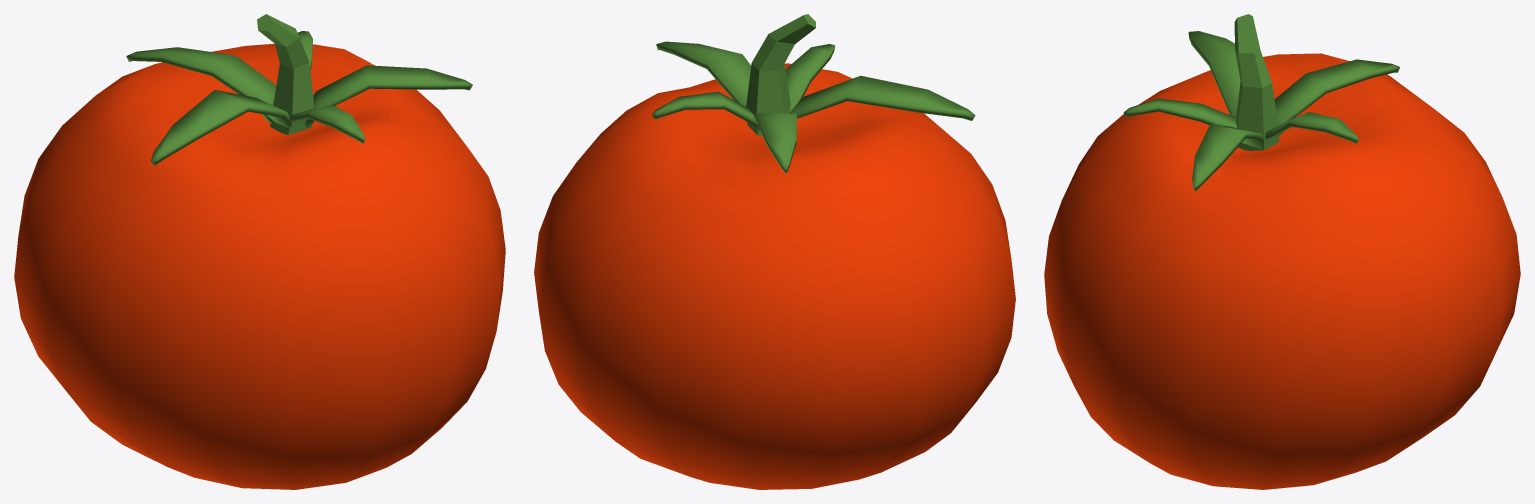
The model's file is Tomato1.fbx.
3 views of the same model, side by side, from view 1: azimuth 30°, elevation 25°; view 2: azimuth 150°, elevation 25°; view 3: azimuth 270°, elevation 25° (orthographic). The views are drawn at different scales.
Visible parts, largest first — view 1: Tomato, Leaves, Stem; view 2: Tomato, Leaves, Stem; view 3: Tomato, Leaves, Stem.
Boxes of the visible parts, x1,y1,x2,y2 form: Tomato: (14,43,505,489); Leaves: (126,31,472,165); Stem: (257,14,314,134); Tomato: (534,63,1015,489); Leaves: (651,41,975,173); Stem: (746,14,815,135); Tomato: (1044,53,1520,489); Leaves: (1123,31,1399,191); Stem: (1234,14,1279,150).
Bounding box in the file's own units: 28.09 × 28.5 × 28.12.
